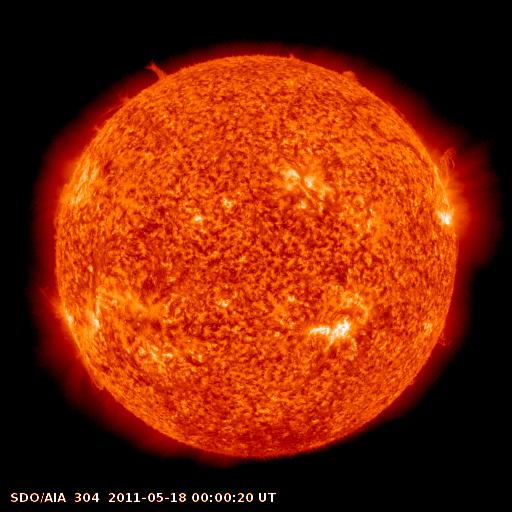prominence: (87, 89, 136, 136), (429, 135, 466, 194), (77, 344, 113, 400), (139, 52, 180, 94), (47, 182, 72, 243), (338, 62, 374, 91)
